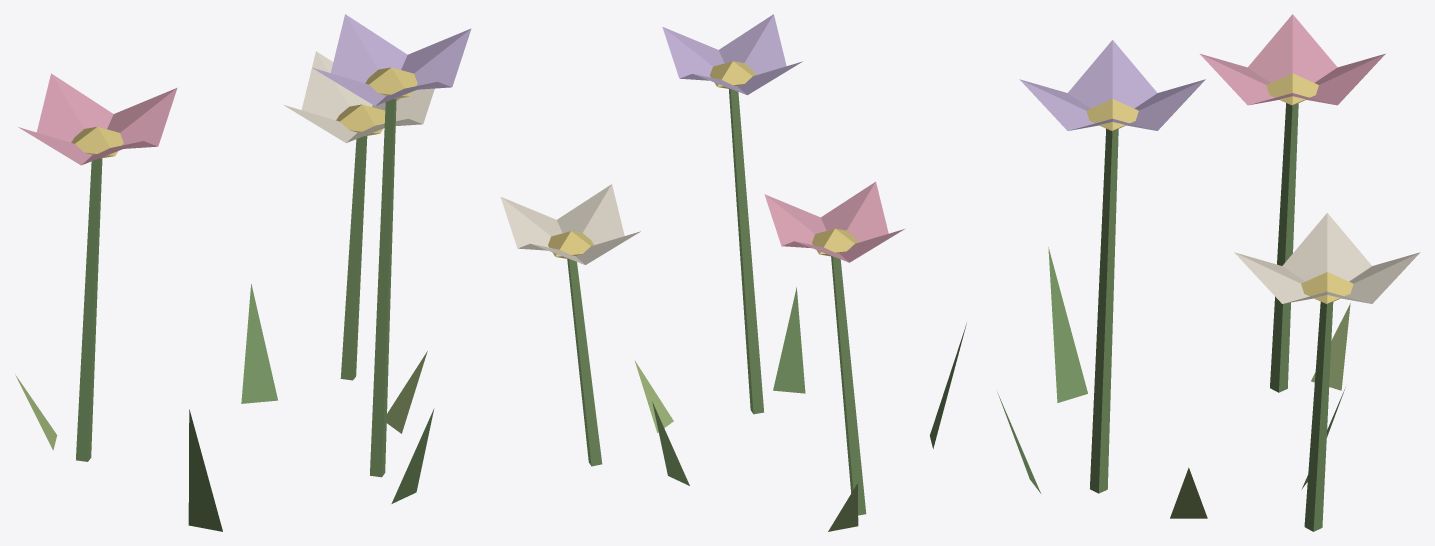
The picture shows the model from 3 angles, left to right: view 1: azimuth 30°, elevation 25°; view 2: azimuth 150°, elevation 25°; view 3: azimuth 270°, elevation 25°; orthographic projection. The views are drawn at different scales.
Parts seen in each view (by area): view 1: Body; view 2: Body; view 3: Body.
Boxes of the visible parts, x1,y1,x2,y2 form: Body: (15,14,471,531); Body: (500,14,966,531); Body: (997,14,1420,531).
Bounding box in the file's own units: 1.49 × 1.34 × 1.23.
